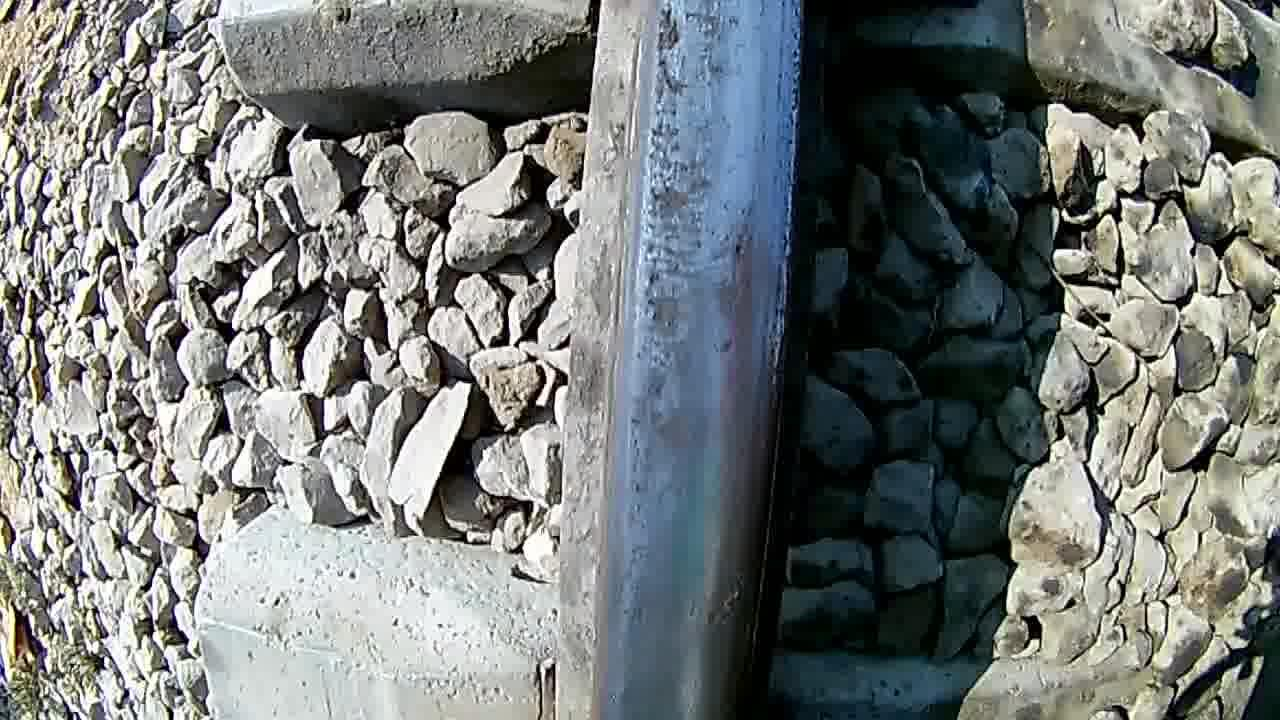crack: (575, 1, 797, 720)
